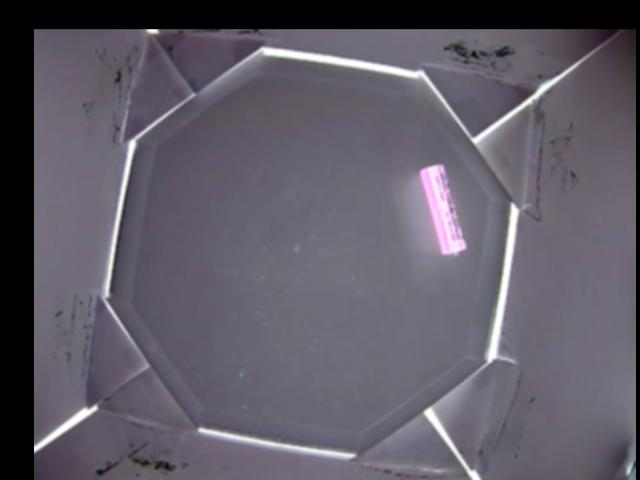Battery: (418, 163, 467, 255)
